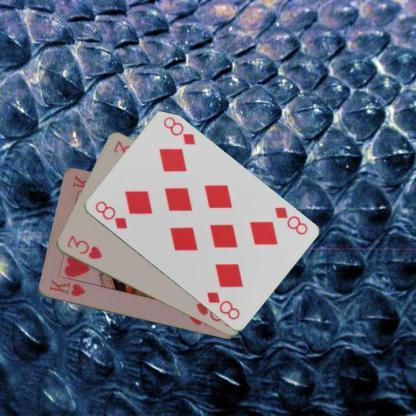3h: (64, 232, 104, 261)
8d: (92, 198, 128, 231), (272, 204, 308, 236)
Kh: (46, 276, 86, 298)
